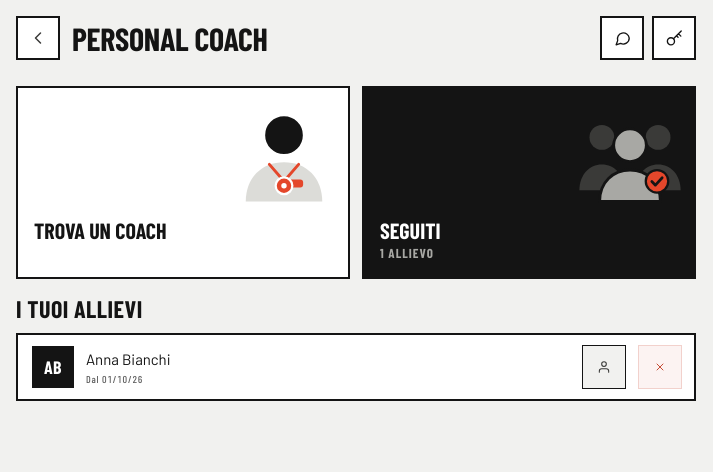
Scenario: la pagina del Coaching › i seguiti hanno nome e cognome, e il profilo accanto alla x
Check: the text "Anna Bianchi" is shown, box 86,348 -> 170,370
Click the button named "Profilo di Anna Bianchi" at (604, 367), box 582,345 -> 626,389
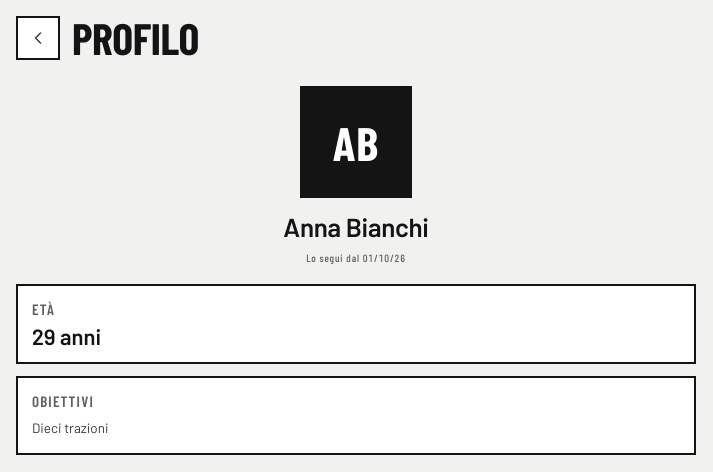
Check: the text "Dieci trazioni" is shown, box 32,419 -> 108,436
Check: the text "29 anni" is shown, box 32,324 -> 101,348
